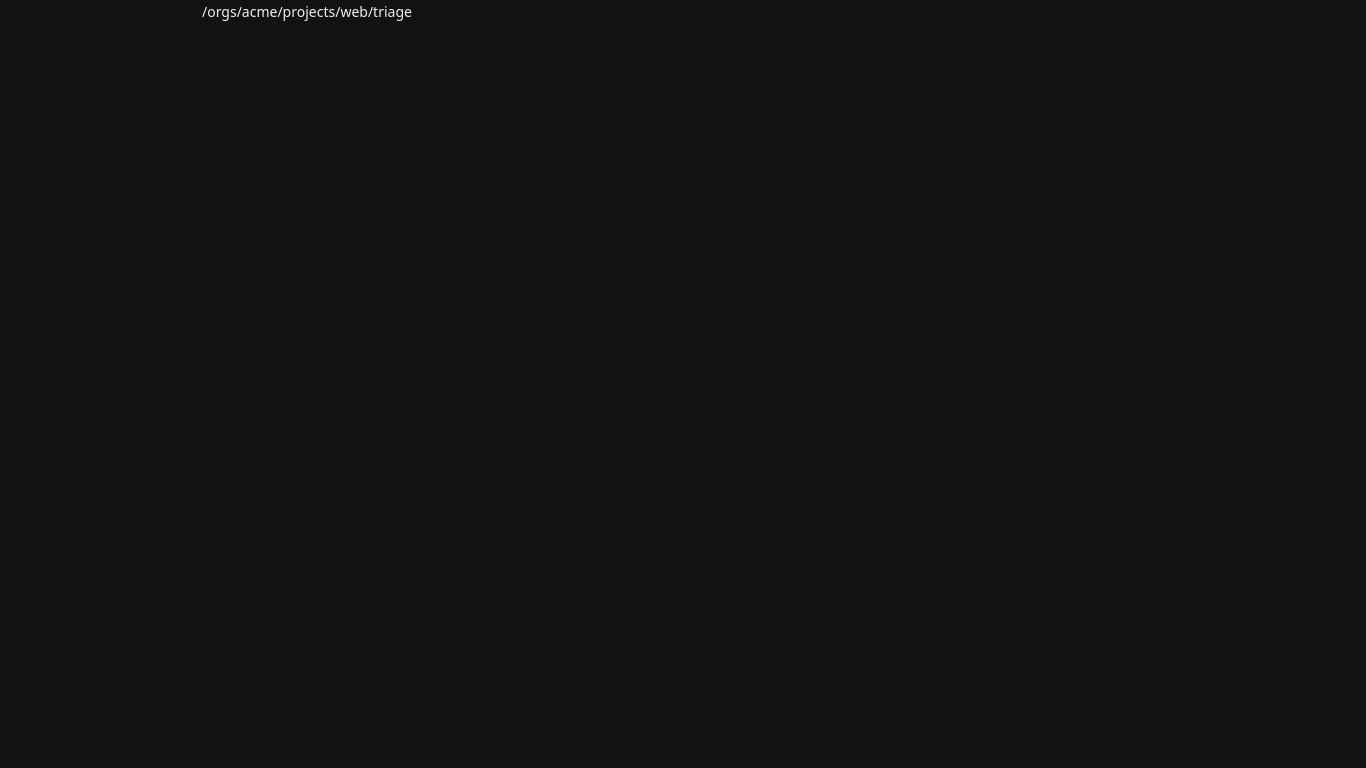
Test: server search › falls back to matching pages when search is unavailable
The width and height of the screenshot is (1366, 768).
Press k
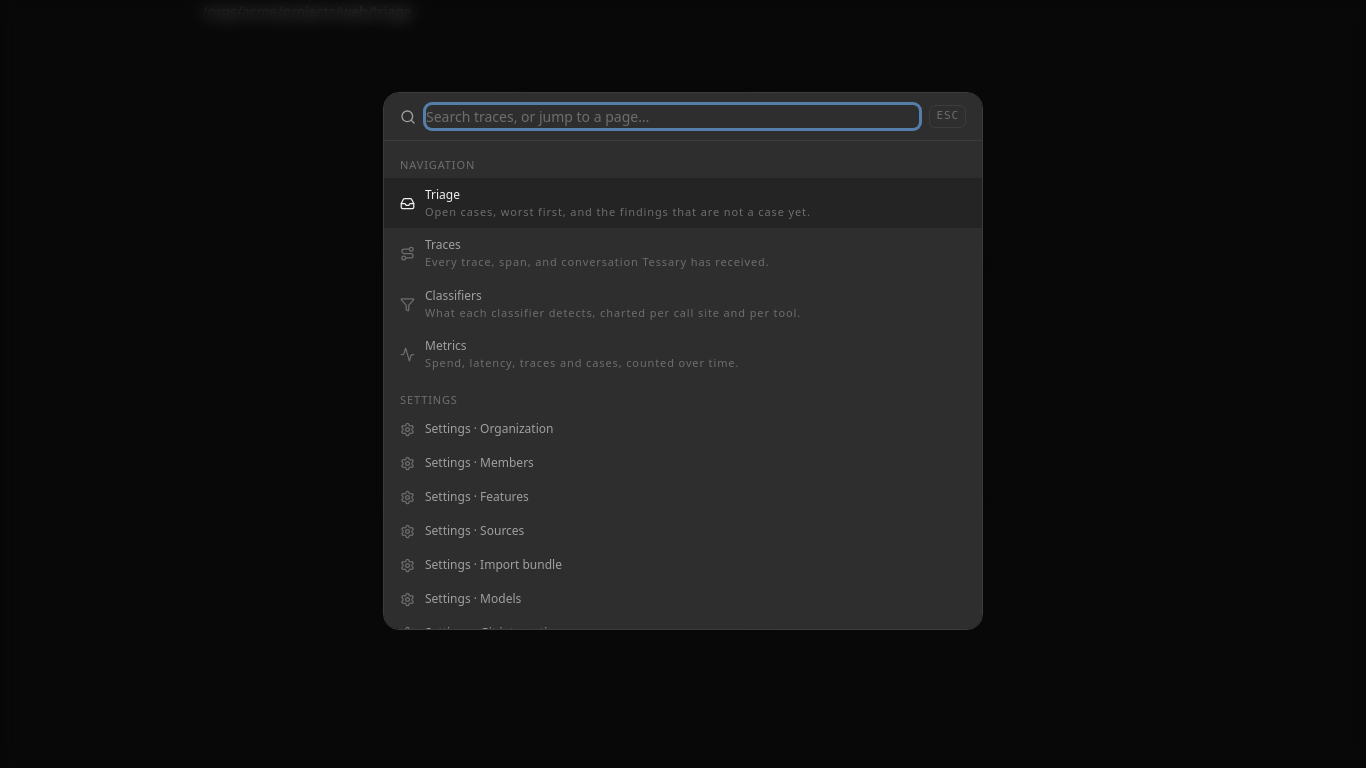
In the field named "Search commands": x=673, y=117 [426,105,920,128], type "vitals"
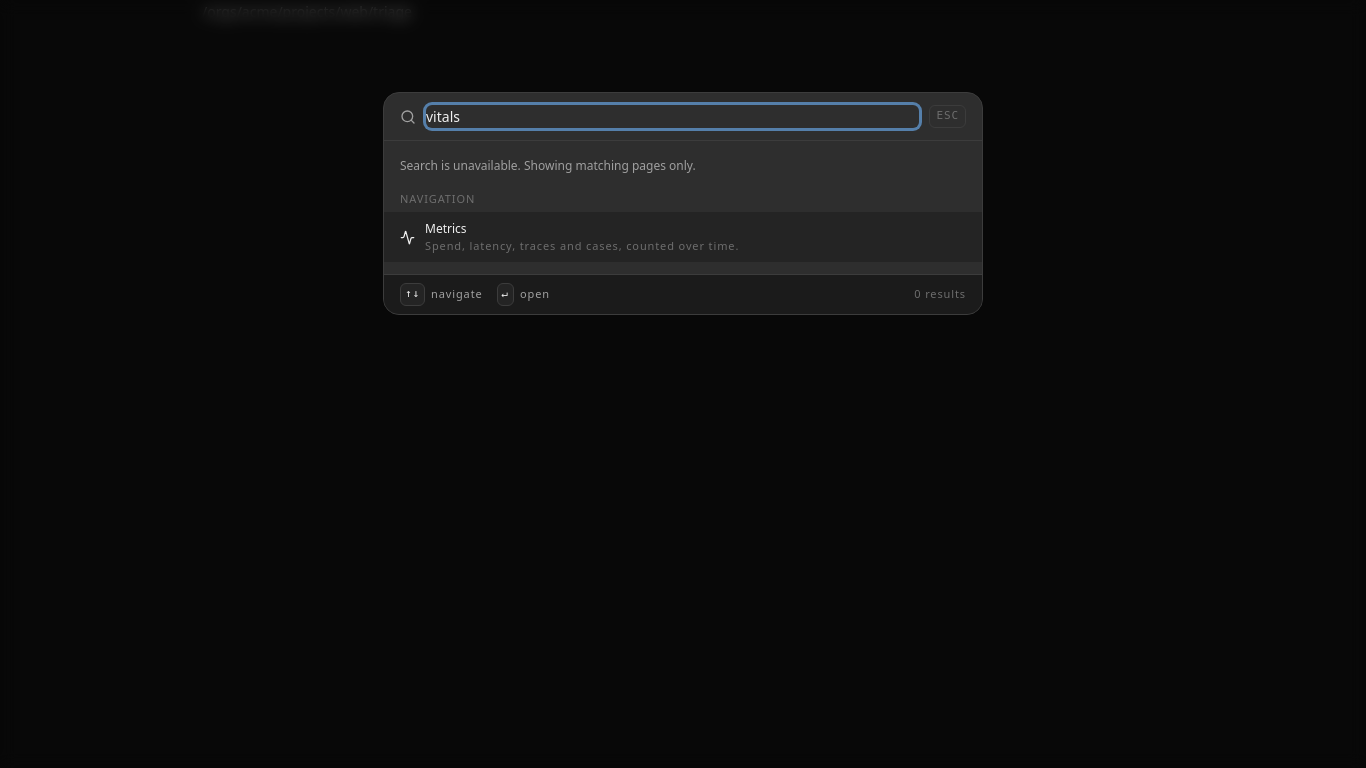
Expected: the text "Metrics" is shown, [425,220,466,237]
Expected: the text "Search is unavailable. Showing matching pages only." is shown, [400,157,696,174]
Expected: the text "0 results" is shown, [914,286,966,303]
